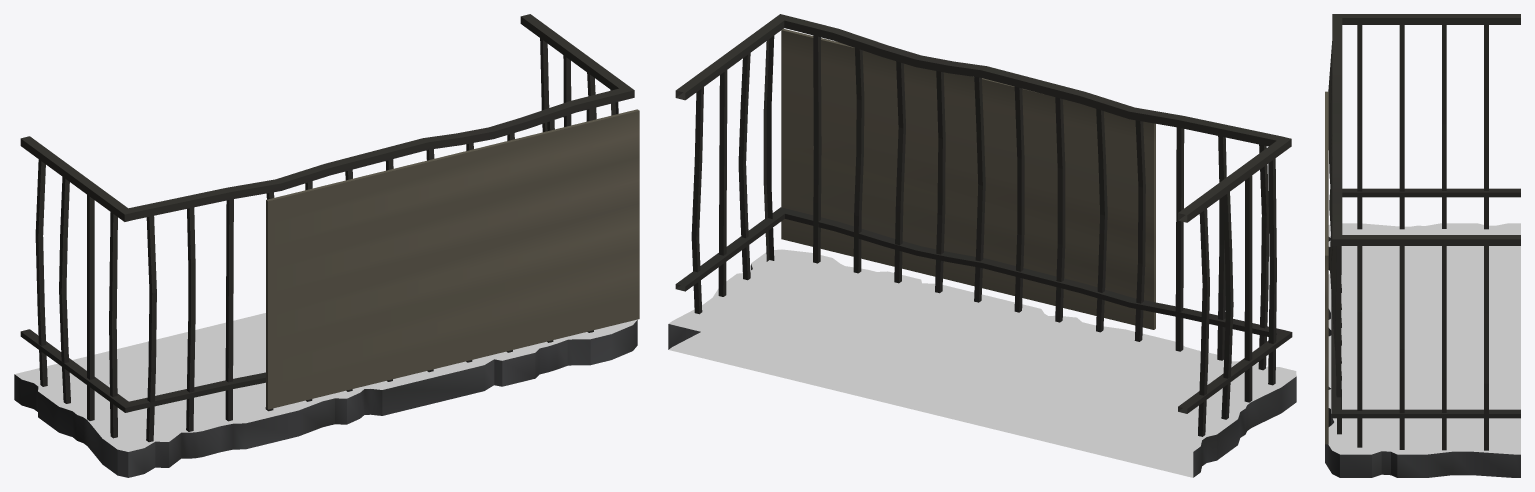
File: Old balcony 2.fbx
3 views of the same model, side by side, from view 1: azimuth 30°, elevation 25°; view 2: azimuth 150°, elevation 25°; view 3: azimuth 270°, elevation 25° (orthographic). The views are drawn at different scales.
Visible parts, largest first — view 1: Plane.001; view 2: Plane.001; view 3: Plane.001.
Boxes of the visible parts, left/top/right/bottom form: Plane.001: left=14, top=14, right=639, bottom=477; Plane.001: left=668, top=14, right=1296, bottom=477; Plane.001: left=1325, top=14, right=1520, bottom=477.
Size of the model in its own units: 687 by 326 by 246.
